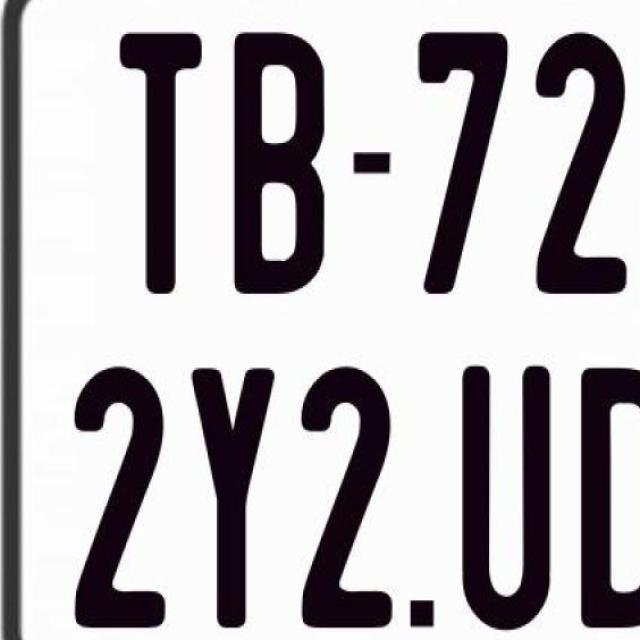license-plate: (16, 10, 640, 640)
